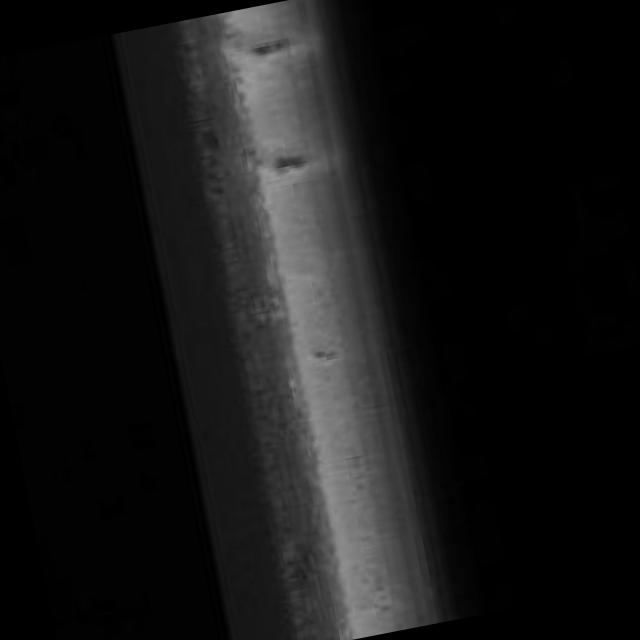defective: (222, 102, 374, 230), (182, 0, 383, 89), (276, 312, 376, 394)
